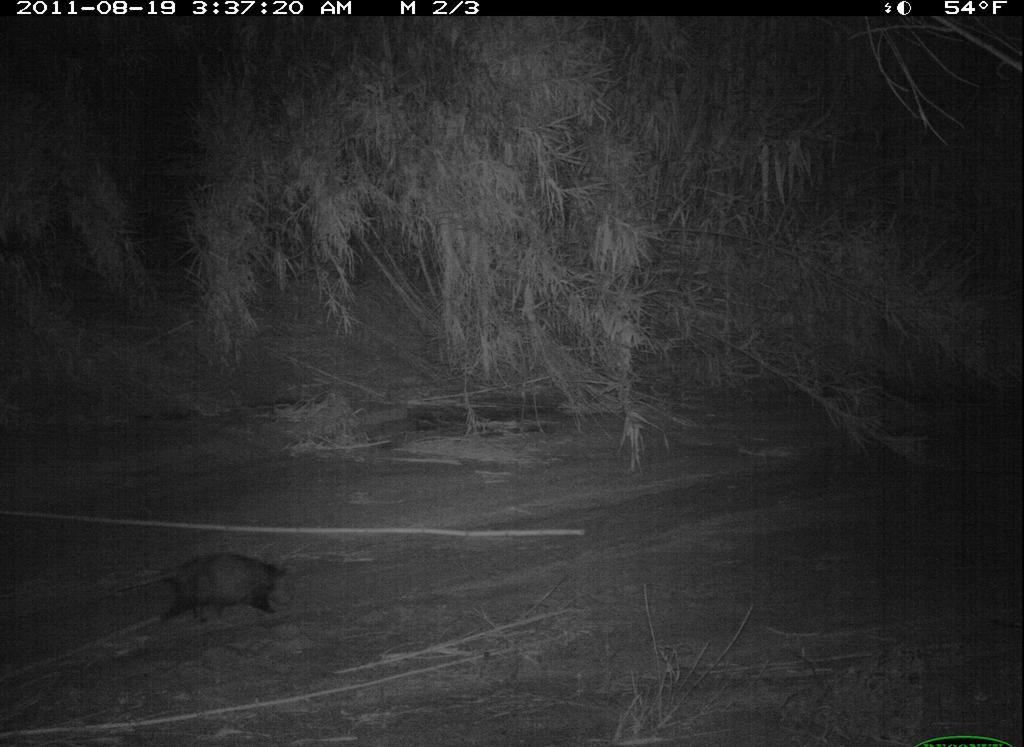opossum: (100, 546, 305, 637)
